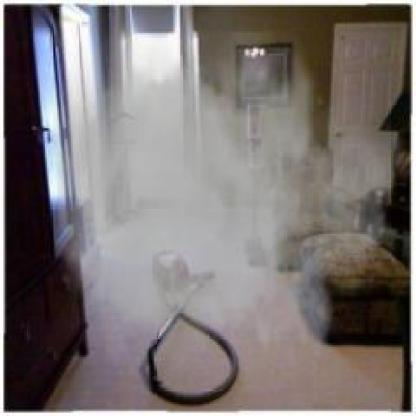Smoke: (36, 31, 390, 392)
